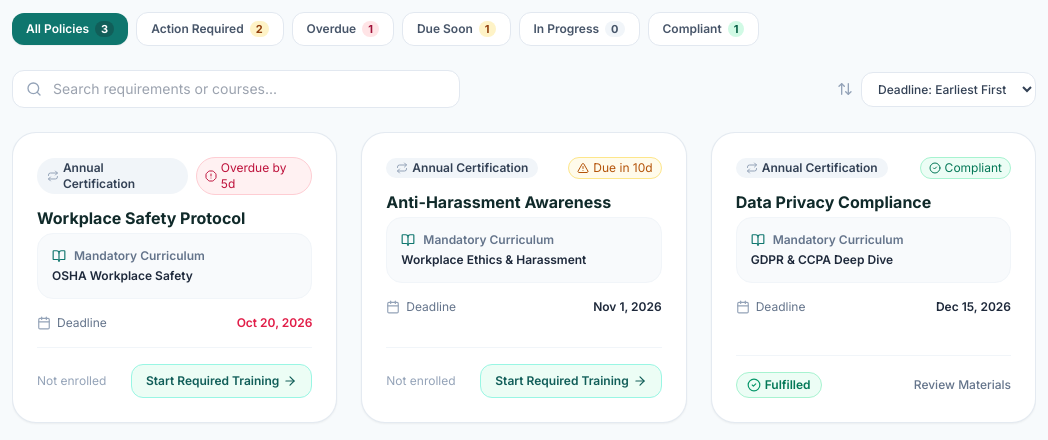
Test: Compliance Component Library › ComplianceRequirementList › filters assignments by status button
Click the button with test id "compliance-filter-overdue".
click(343, 29)  # box [292,12,394,46]
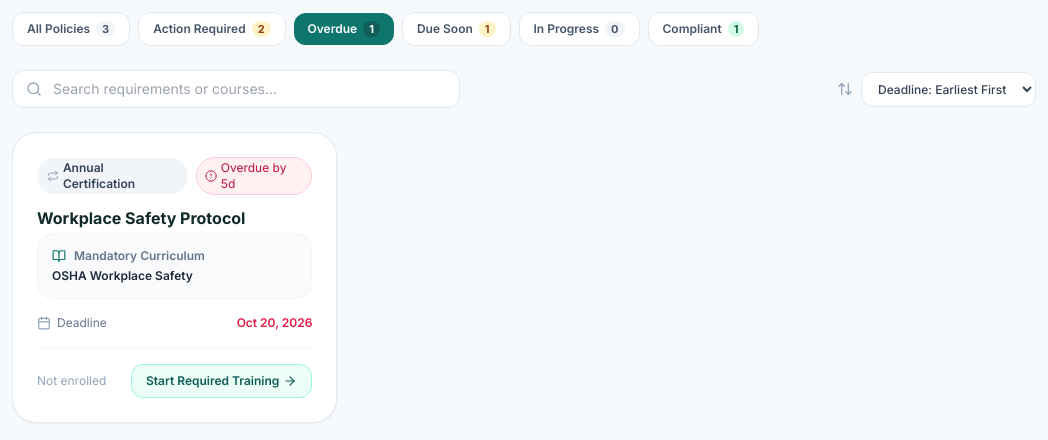
Check: the heading "Workplace Safety Protocol" is shown, box [37,208,246,228]
Check: the heading "Anti-Harassment Awareness" is gone
Check: the heading "Data Privacy Compliance" is gone
